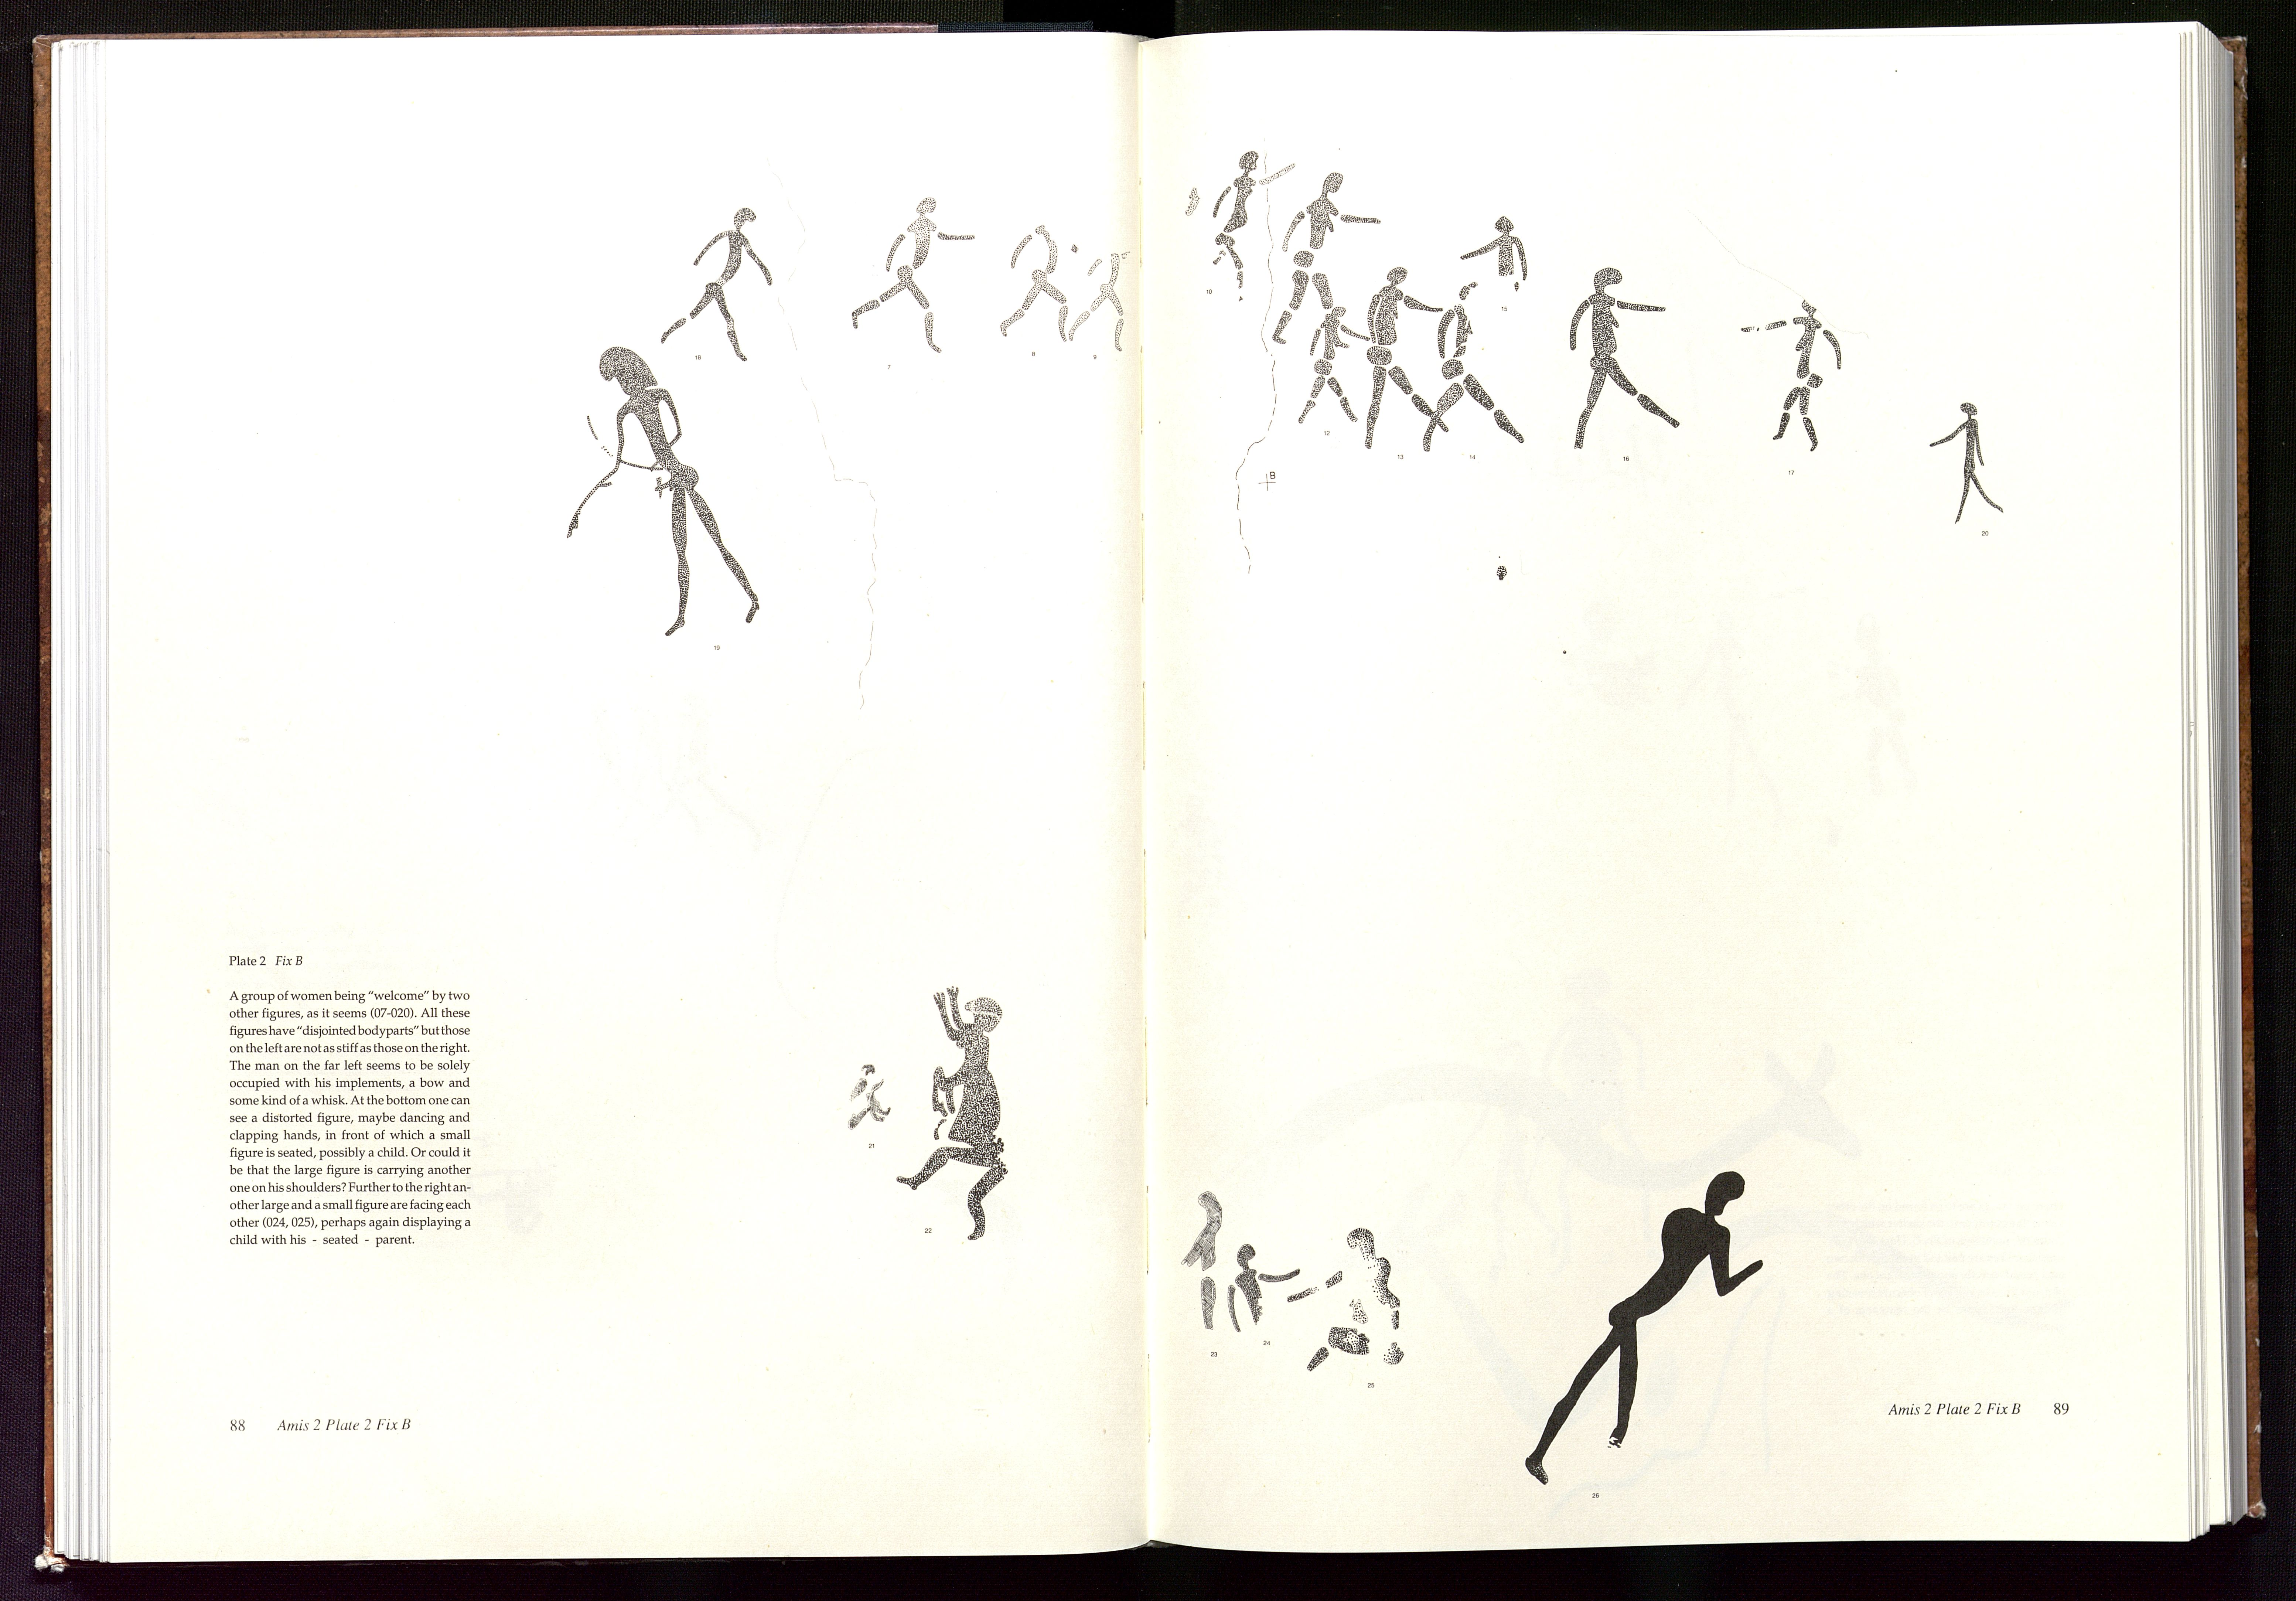human: (1525, 1171, 1765, 1485), (566, 346, 761, 637), (897, 987, 1008, 1242), (1568, 268, 1681, 451), (851, 197, 977, 355), (1270, 172, 1381, 346), (660, 204, 774, 361), (1423, 285, 1525, 452), (1286, 1227, 1402, 1372), (1737, 298, 1844, 451), (1365, 266, 1448, 451), (1212, 150, 1296, 289), (999, 221, 1080, 344), (1928, 402, 2005, 523), (1297, 306, 1371, 423), (1228, 1244, 1303, 1336), (1068, 251, 1129, 354), (1179, 1190, 1224, 1331), (1457, 217, 1530, 292)
